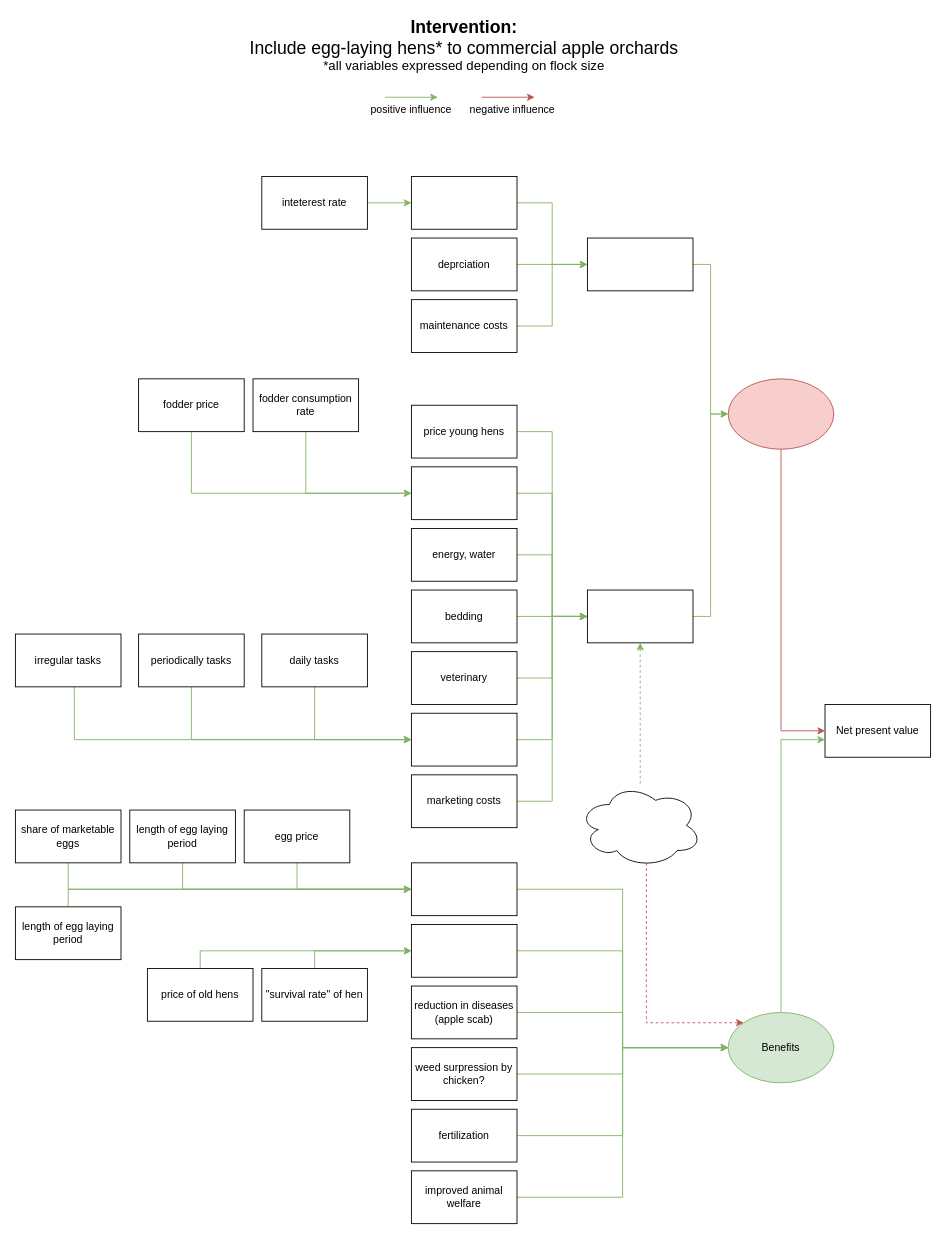
The diagram is 946 pixels wide and 1239 high, and some of its shapes have lost their labels. Each missing label, with the box of its shape:
Costs: (727, 378, 834, 449)
eggs: (411, 862, 517, 916)
fodder: (411, 466, 517, 520)
Housing costs: (587, 237, 693, 291)
investment chicken coop: (411, 176, 517, 229)
labour: (411, 712, 517, 766)
risk: avian influenca: (578, 783, 702, 867)
Running costs: (587, 589, 693, 643)
sell old hens: (411, 924, 517, 977)
